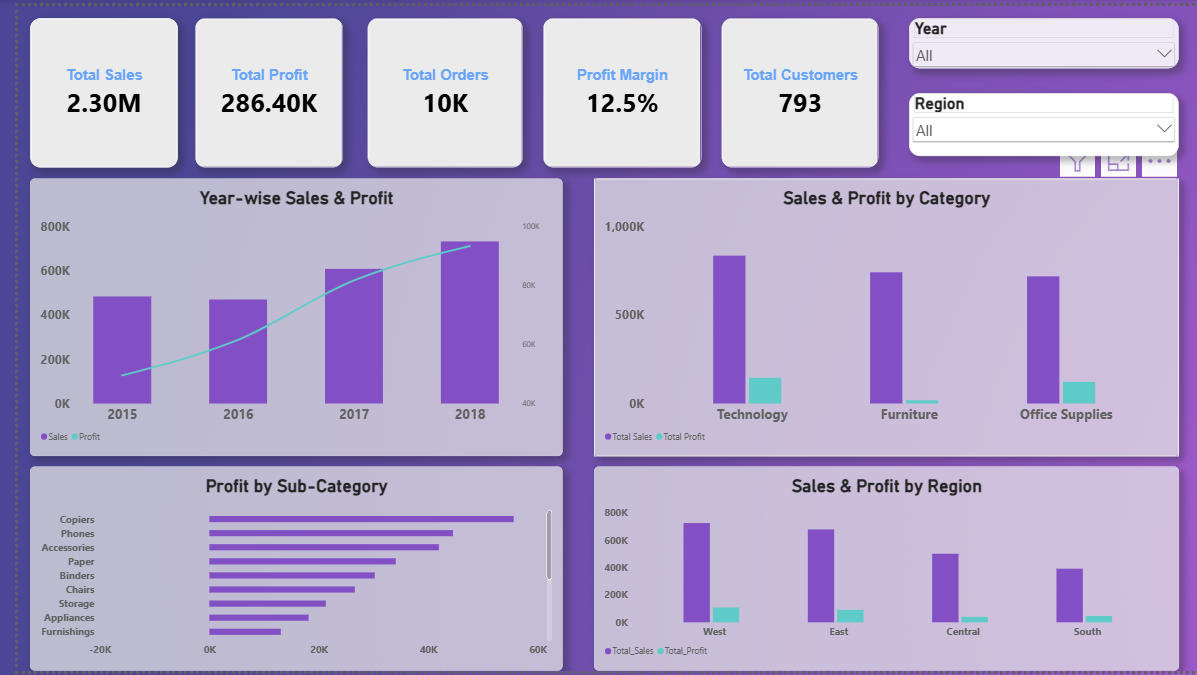

This screenshot's page, from the dashboard's own definition file:
{"tool":"powerbi","page":{"name":"Sales & Profit Analysis","canvas":[1920,1080],"ordinal":0},"visuals":[{"type":"cardVisual","fields":{"Data":["Measures (2).Total_Sales"]},"box":[19.1,19.1,241,243.4],"z":0},{"type":"cardVisual","fields":{"Data":["Measures (2).Total_Profit"]},"box":[287.8,19.5,241,243.4],"z":1000},{"type":"cardVisual","fields":{"Data":["Measures (2).Total_Orders"]},"box":[567.8,19.1,252.9,243.4],"z":2000},{"type":"cardVisual","fields":{"Data":["Measures (2).Total_Customers"]},"box":[1143.9,19.5,255.3,243.4],"z":3000},{"type":"cardVisual","fields":{"Data":["Measures (2).Profit_Margin"]},"box":[854.2,19.1,257.7,243.4],"z":4000},{"type":"lineClusteredColumnComboChart","title":"Year-wise Sales & Profit","fields":{"Category":["Orders.Year"],"Y":["Sum(Orders.Sales)"],"Y2":["Sum(Orders.Profit)"]},"box":[19.5,280.5,865.9,451.2],"z":5000},{"type":"clusteredColumnChart","title":"Sales & Profit by Category","fields":{"Category":["Orders.Category"],"Y":["Measures (2).Total_Sales","Measures (2).Total_Profit"]},"box":[936.6,280.5,951.2,451.2],"z":6000},{"type":"clusteredBarChart","title":"Profit by Sub-Category","fields":{"Category":["Orders.Sub-Category"],"Y":["Measures (2).Total_Profit"]},"box":[19.5,748.8,865.9,331.7],"z":7000},{"type":"clusteredColumnChart","title":"Sales & Profit by Region","fields":{"Category":["Orders.Region"],"Y":["Measures (2).Total_Sales","Measures (2).Total_Profit"]},"box":[936.6,748.8,951.2,331.7],"z":8000},{"type":"slicer","fields":{"Values":["Orders.Year"]},"box":[1448.7,20.5,438.5,82.1],"z":9000},{"type":"slicer","fields":{"Values":["Orders.Region"]},"box":[1448.7,141,438.5,102.6],"z":10000}]}

Visuals, with their boxes in screenshot pixels (x1, y1, x2, y2), scaled from the page's 1920x1080 canvas onto the 1197x675 screenshot:
cardVisual - Measures (2).Total_Sales: left=12, top=12, right=162, bottom=164
cardVisual - Measures (2).Total_Profit: left=179, top=12, right=330, bottom=164
cardVisual - Measures (2).Total_Orders: left=354, top=12, right=512, bottom=164
cardVisual - Measures (2).Total_Customers: left=713, top=12, right=872, bottom=164
cardVisual - Measures (2).Profit_Margin: left=533, top=12, right=693, bottom=164
"Year-wise Sales & Profit" lineClusteredColumnComboChart: left=12, top=175, right=552, bottom=457
"Sales & Profit by Category" clusteredColumnChart: left=584, top=175, right=1177, bottom=457
"Profit by Sub-Category" clusteredBarChart: left=12, top=468, right=552, bottom=674
"Sales & Profit by Region" clusteredColumnChart: left=584, top=468, right=1177, bottom=674
slicer - Orders.Year: left=903, top=13, right=1177, bottom=64
slicer - Orders.Region: left=903, top=88, right=1177, bottom=152
